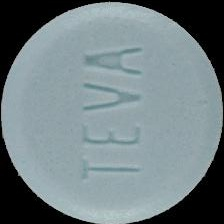76237-145: (0, 0, 224, 224)
